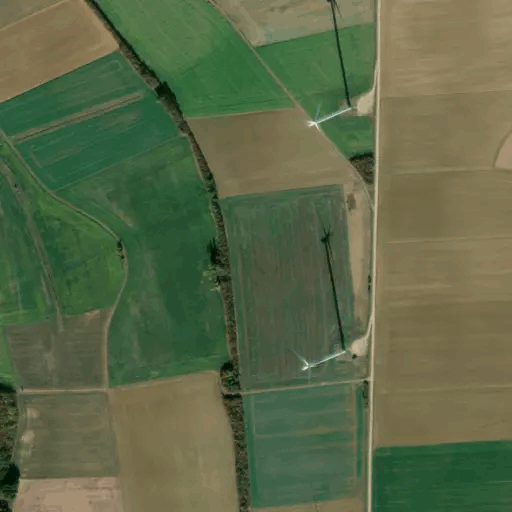wt: (293, 219, 349, 376), (302, 1, 362, 137)
